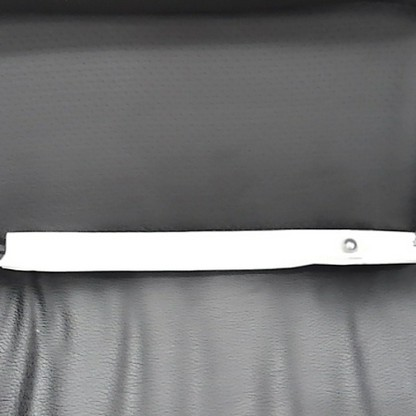ironball: (339, 234, 357, 254)
